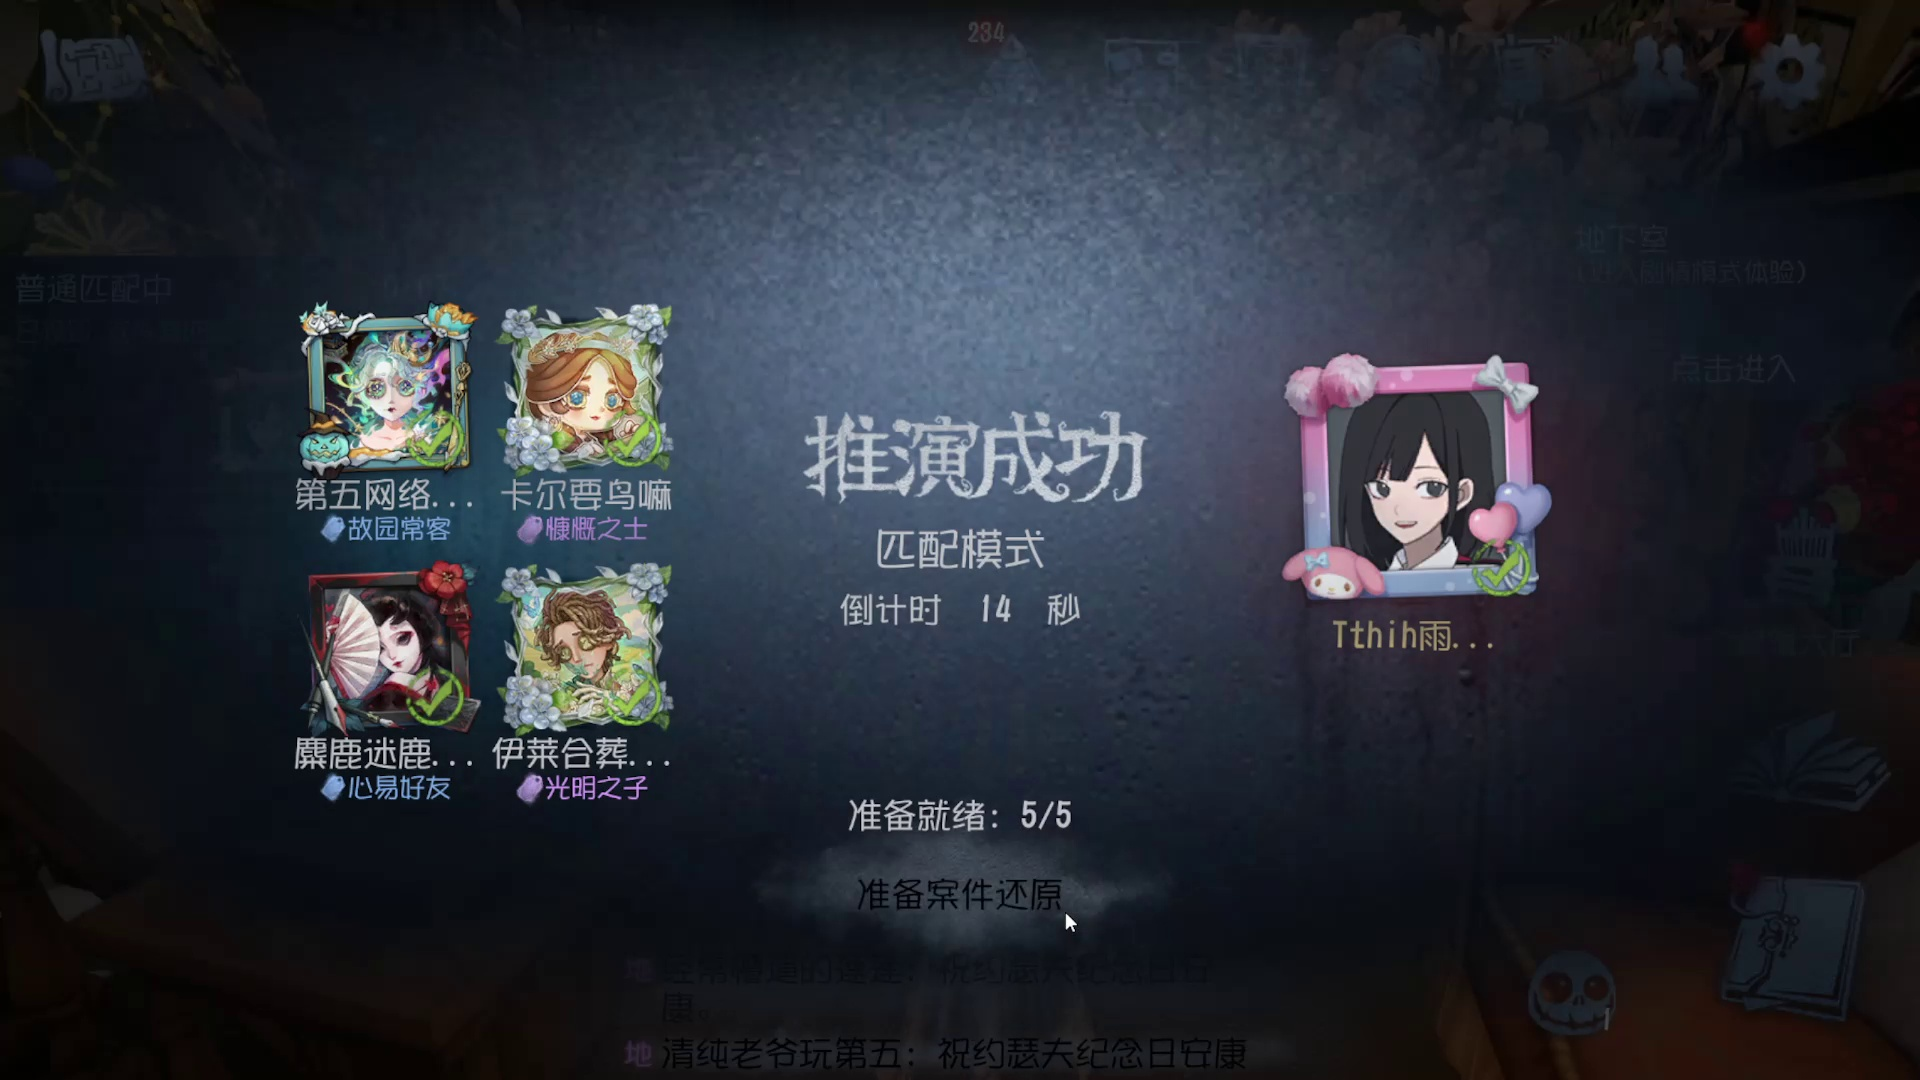准备案件还原: (764, 818, 1164, 968)
